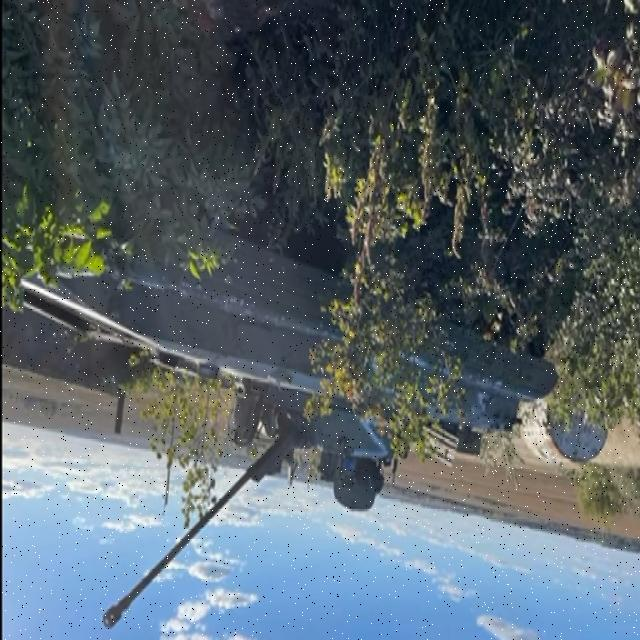APC-IFV: (0, 147, 559, 636)
